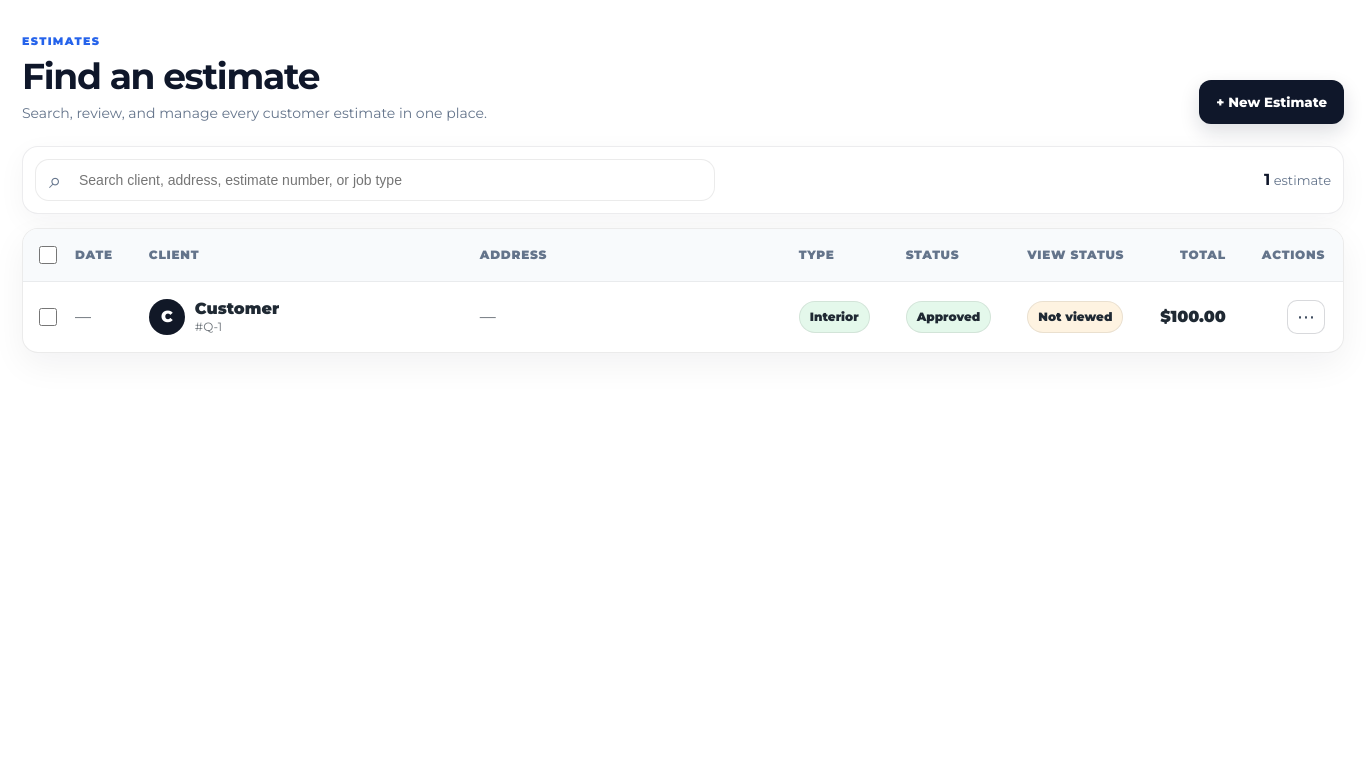
Test: bulk delete requires confirmation and removes deleted estimates
The width and height of the screenshot is (1366, 768).
Step 1. Click the checkbox named "Select all estimates shown" → (48, 255), box [39, 246, 57, 264]
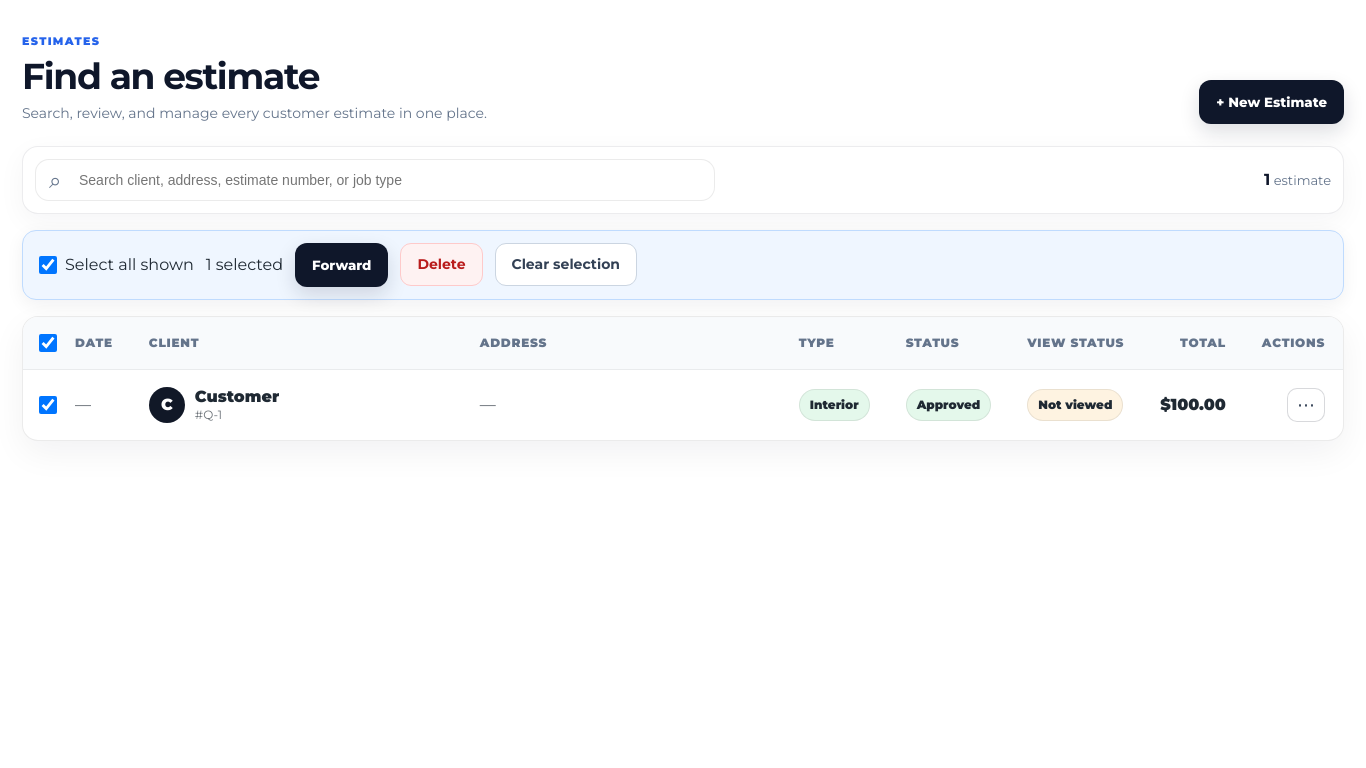
Step 2. Click the button "Delete" → (441, 265), box [400, 243, 482, 286]
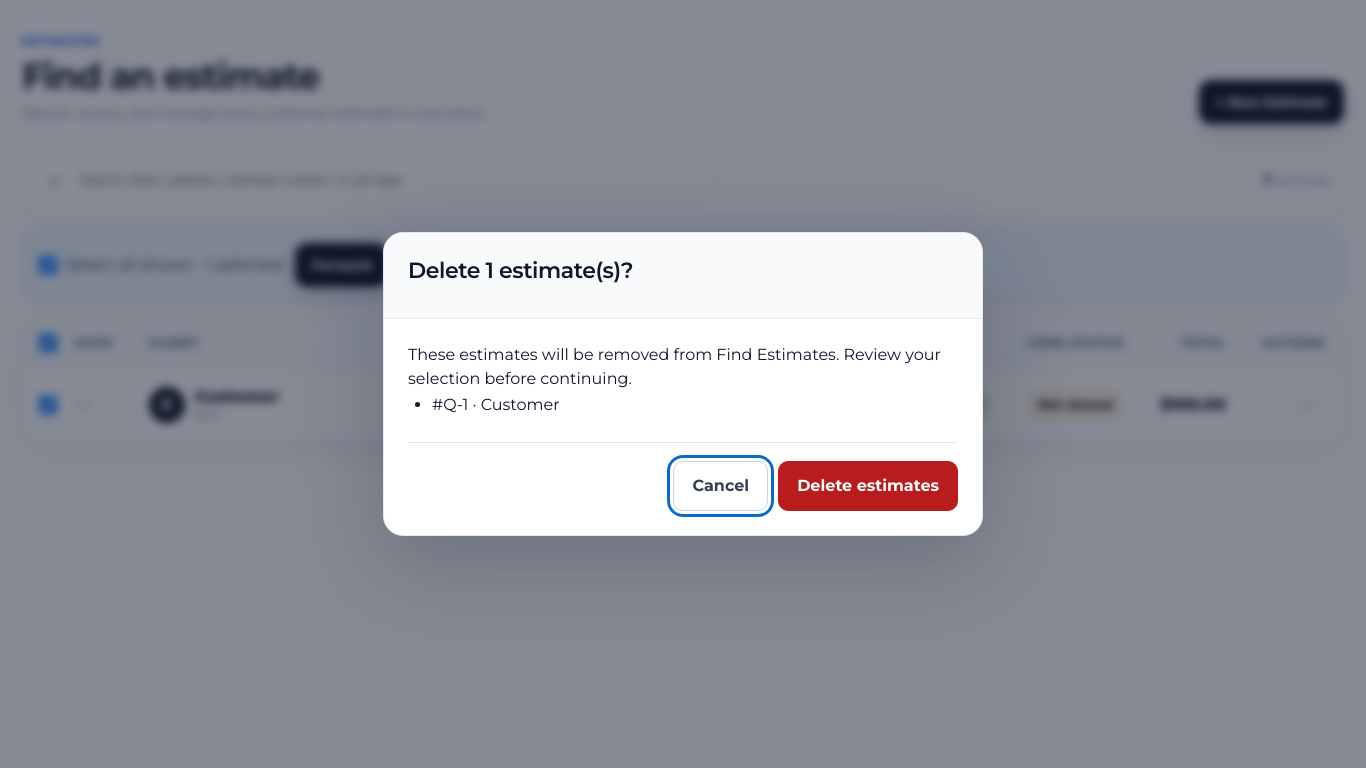
Expected: the dialog "Delete 1 estimate(s)?" is shown, [383, 232, 983, 536]
Step 3. Click the button "Delete estimates" → (868, 486), box [778, 461, 958, 511]
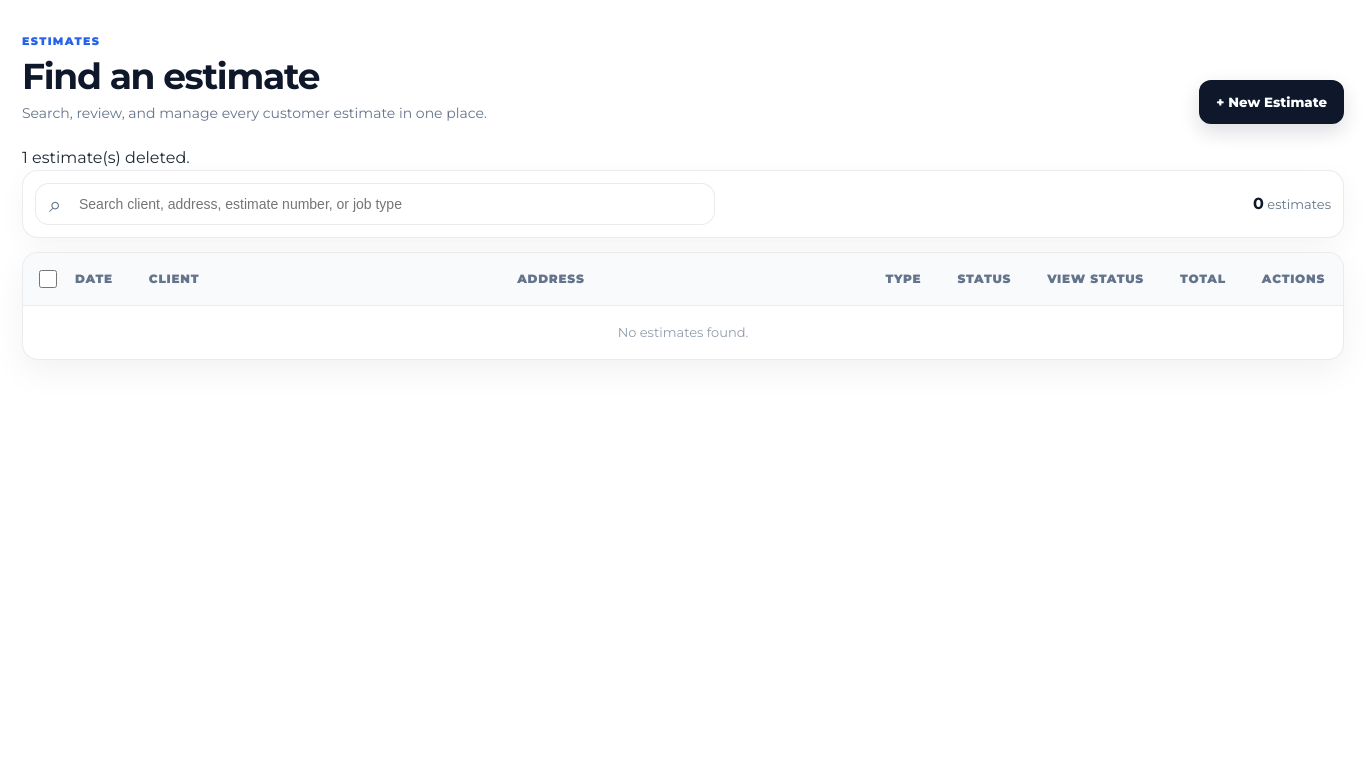
Expected: the text "1 estimate(s) deleted." is shown, [22, 148, 190, 167]
